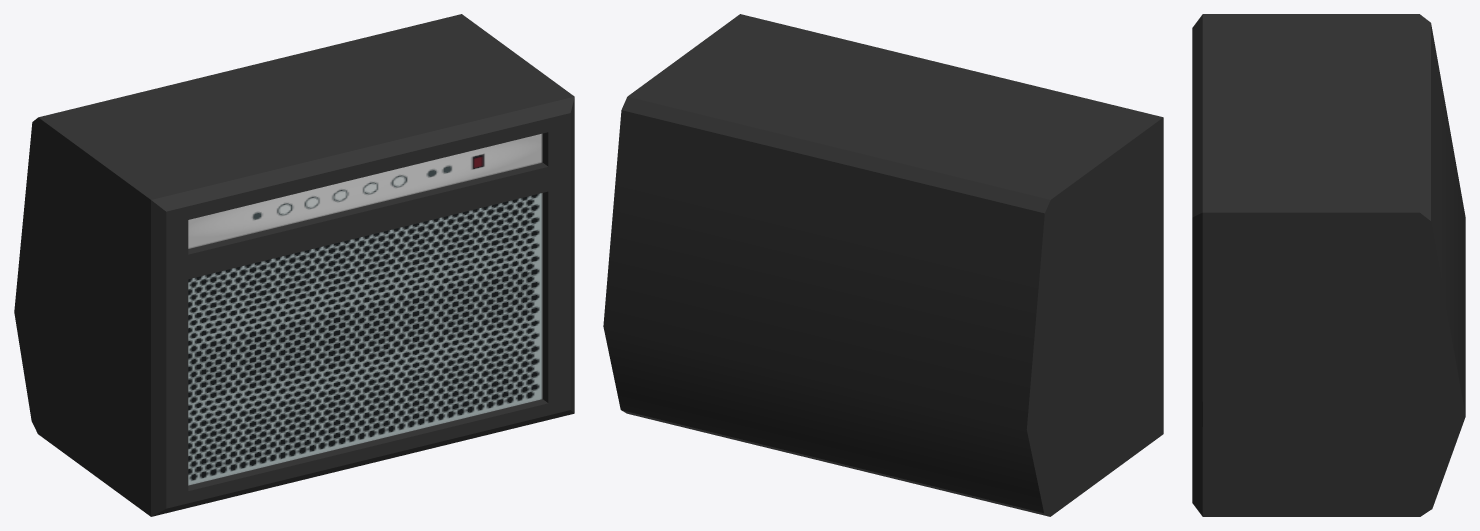
The model's file is fbx_amp.fbx.
3 views of the same model, side by side, from view 1: azimuth 30°, elevation 25°; view 2: azimuth 150°, elevation 25°; view 3: azimuth 270°, elevation 25° (orthographic). The views are drawn at different scales.
Parts seen in each view (by area): view 1: fbx_amp; view 2: fbx_amp; view 3: fbx_amp.
Part boxes in pixels (left/top/right/bottom): fbx_amp: left=14, top=14, right=574, bottom=516; fbx_amp: left=603, top=14, right=1163, bottom=516; fbx_amp: left=1192, top=14, right=1465, bottom=516.
Size of the model in its own units: 0.7462 by 0.5336 by 0.4344.
Materials: 1 (1 with a texture image).
